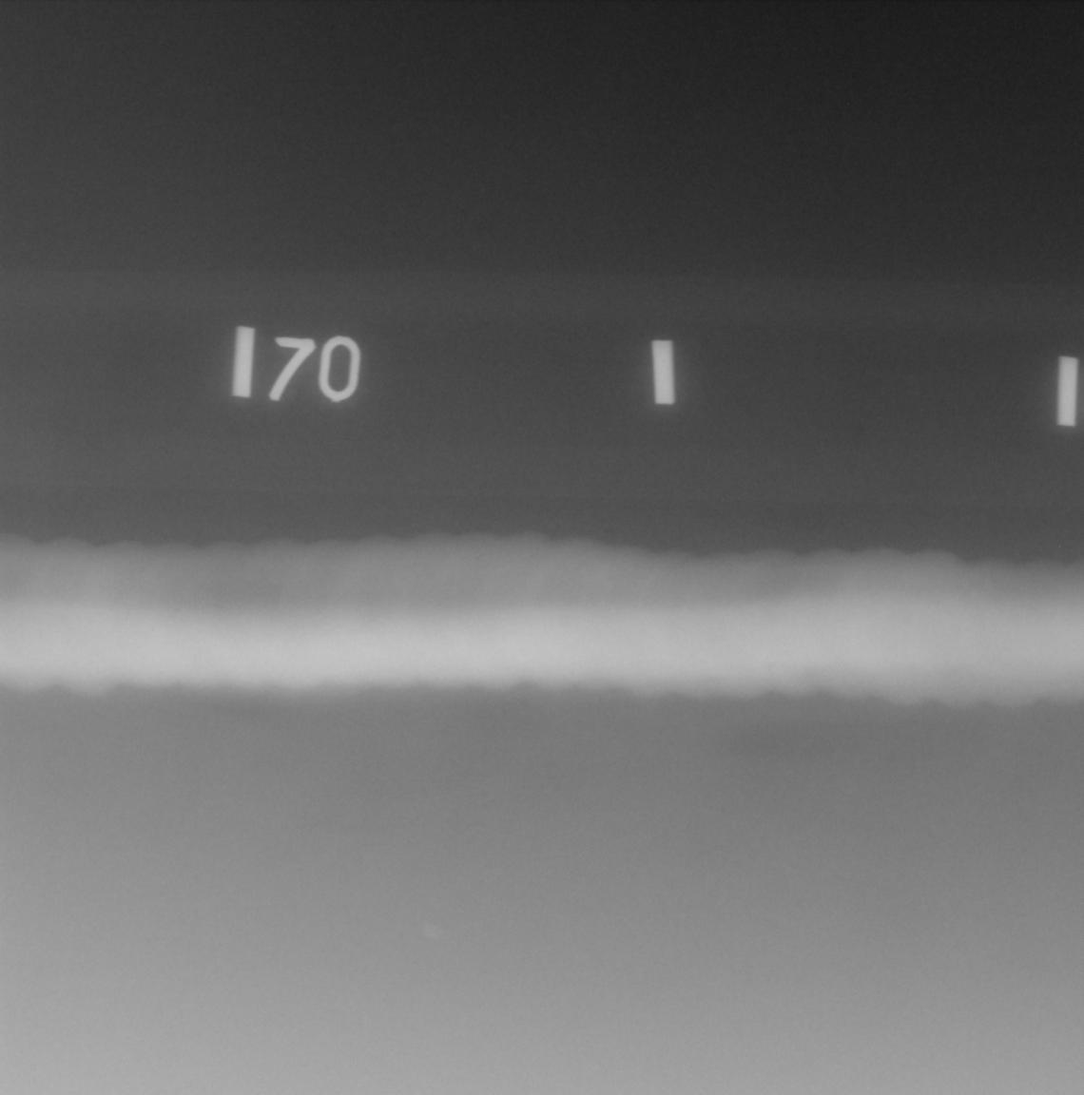Pore/Porosity: (767, 664, 773, 672)
